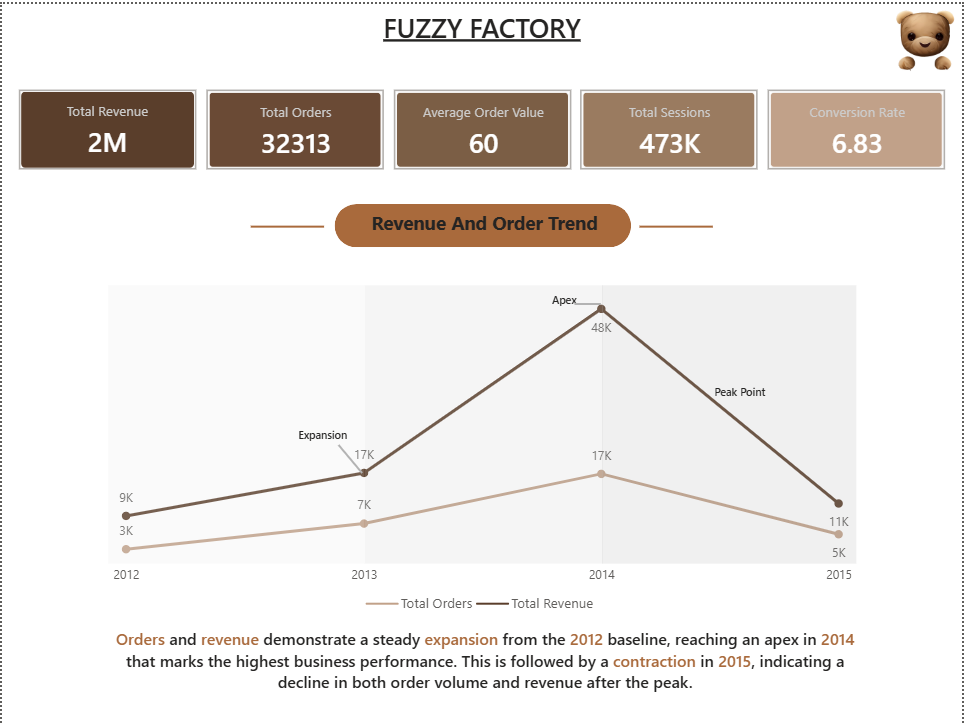

What the dashboard file says about the page in this screenshot:
{"tool":"powerbi","page":{"name":"Overview","canvas":[960,720],"ordinal":0},"visuals":[{"type":"textbox","box":[205.3,0,549.8,68.4],"z":0},{"type":"shape","box":[105.7,281.4,255.7,278.6],"z":0,"group":"g1"},{"type":"cardVisual","fields":{"Data":["Sum(order_items.price_usd)"]},"box":[0,68.4,211.5,114.4],"z":1000},{"type":"shape","box":[361.4,281.4,238.6,278.6],"z":1000,"group":"g1"},{"type":"cardVisual","fields":{"Data":["order_items.Total Orders"]},"box":[187.2,68.4,211.5,114.4],"z":2000},{"type":"shape","box":[600,281.4,254.3,278.6],"z":2000,"group":"g1"},{"type":"cardVisual","fields":{"Data":["order_items.AOV"]},"box":[374.4,68.4,211.5,114.4],"z":3000},{"type":"cardVisual","fields":{"Data":["website_sessions.Total Sessions"]},"box":[561.6,68.4,211.5,114.4],"z":4000},{"type":"cardVisual","fields":{"Data":["website_sessions.Conversion Rate"]},"box":[748.5,68.4,211.5,114.4],"z":5000},{"type":"lineChart","fields":{"Category":["orders.created_at.Variation.Date Hierarchy.Year","orders.created_at.Variation.Date Hierarchy.Month","orders.created_at.Variation.Date Hierarchy.Day"],"Y":["order_items.Total Orders","maven_fuzzy_factory_data_dictionary.Total Revenue"]},"box":[105.7,281.4,748.6,337.1],"z":6000},{"type":"group","id":"g1","title":"Group 1","box":[105.7,281.4,748.6,278.6],"z":7000},{"type":"group","id":"g2","title":"Group 2","box":[332.2,200,296.7,43.3],"z":8000},{"type":"shape","box":[332.2,200,296.7,43.3],"z":8000,"group":"g2"},{"type":"shape","box":[637.8,153.3,73.3,137.8],"z":9000},{"type":"textbox","box":[358.9,201.1,247.8,42.2],"z":9000,"group":"g2"},{"type":"shape","box":[248.9,153.3,73.3,137.8],"z":10000},{"type":"textbox","box":[544.4,281.1,82.2,66.7],"z":11000},{"type":"textbox","box":[291.1,416.7,82.2,66.7],"z":12000},{"type":"textbox","box":[707.8,372.2,77.8,33.3],"z":13000},{"type":"shape","box":[334.4,440,26.7,30],"z":14000},{"type":"shape","box":[572.2,284.4,26.7,30],"z":15000},{"type":"textbox","box":[108.9,618.9,748.9,101.1],"z":16000},{"type":"image","box":[886.9,0,73.3,68.8],"z":17000}]}

Visuals, with their boxes in screenshot pixels (x1, y1, x2, y2), scaled from the page's 960x720 canvas onto the 965x723 screenshot:
textbox: {"x1": 206, "y1": 0, "x2": 759, "y2": 69}
shape: {"x1": 106, "y1": 283, "x2": 363, "y2": 562}
cardVisual - Sum(order_items.price_usd): {"x1": 0, "y1": 69, "x2": 213, "y2": 184}
shape: {"x1": 363, "y1": 283, "x2": 603, "y2": 562}
cardVisual - order_items.Total Orders: {"x1": 188, "y1": 69, "x2": 401, "y2": 184}
shape: {"x1": 603, "y1": 283, "x2": 859, "y2": 562}
cardVisual - order_items.AOV: {"x1": 376, "y1": 69, "x2": 589, "y2": 184}
cardVisual - website_sessions.Total Sessions: {"x1": 565, "y1": 69, "x2": 777, "y2": 184}
cardVisual - website_sessions.Conversion Rate: {"x1": 752, "y1": 69, "x2": 964, "y2": 184}
lineChart - orders.created_at.Variation.Date Hierarchy.Year x orders.created_at.Variation.Date Hierarchy.Month: {"x1": 106, "y1": 283, "x2": 859, "y2": 621}
"Group 1" group: {"x1": 106, "y1": 283, "x2": 859, "y2": 562}
"Group 2" group: {"x1": 334, "y1": 201, "x2": 632, "y2": 244}
shape: {"x1": 334, "y1": 201, "x2": 632, "y2": 244}
shape: {"x1": 641, "y1": 154, "x2": 715, "y2": 292}
textbox: {"x1": 361, "y1": 202, "x2": 610, "y2": 244}
shape: {"x1": 250, "y1": 154, "x2": 324, "y2": 292}
textbox: {"x1": 547, "y1": 282, "x2": 630, "y2": 349}
textbox: {"x1": 293, "y1": 418, "x2": 375, "y2": 485}
textbox: {"x1": 711, "y1": 374, "x2": 790, "y2": 407}
shape: {"x1": 336, "y1": 442, "x2": 363, "y2": 472}
shape: {"x1": 575, "y1": 286, "x2": 602, "y2": 316}
textbox: {"x1": 109, "y1": 621, "x2": 862, "y2": 722}
image: {"x1": 892, "y1": 0, "x2": 964, "y2": 69}
